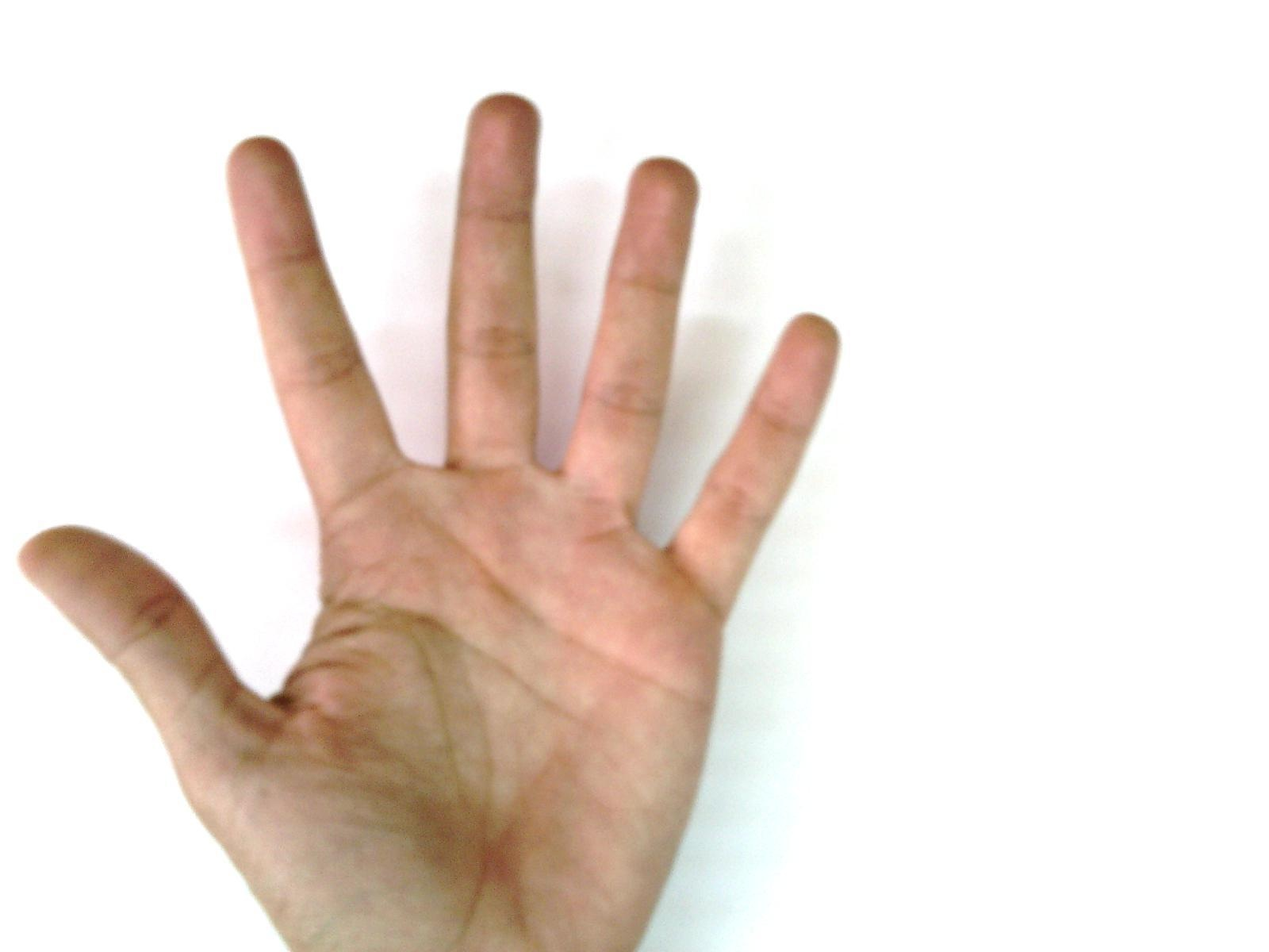open_palm: (17, 91, 844, 951)
